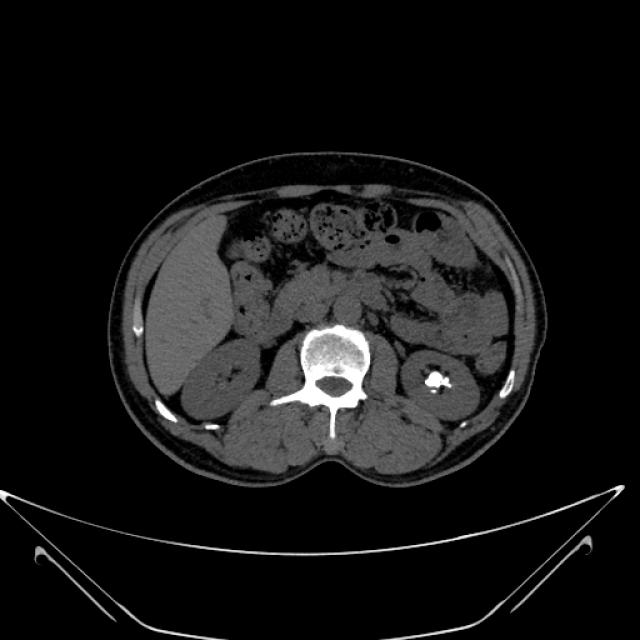kidneystone: (425, 371, 451, 391), (430, 389, 438, 393)
